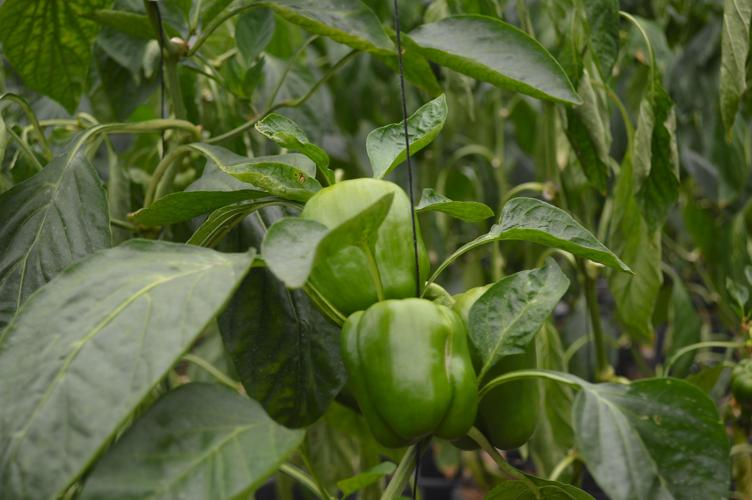BellPepper: (335, 300, 476, 438), (297, 176, 424, 295), (461, 288, 541, 445)
